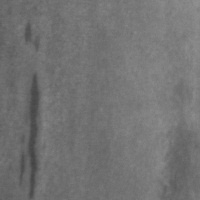inclusion: (15, 69, 45, 199), (22, 19, 45, 57)
